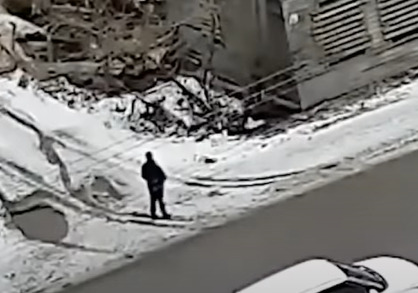person: (140, 150, 172, 221)
